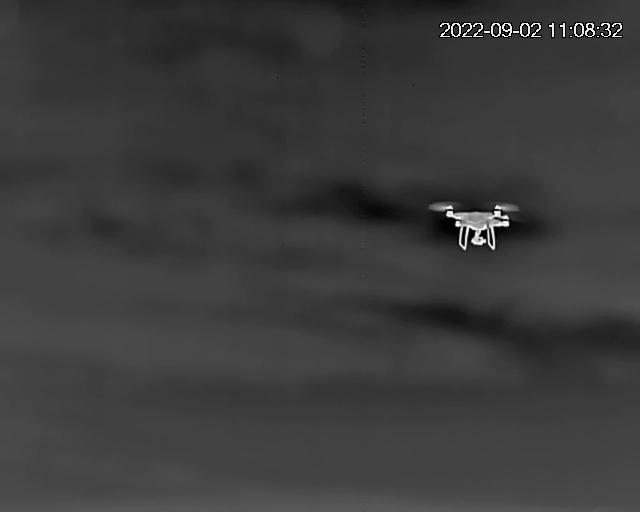DJI-Phantom: (428, 206, 519, 250)
